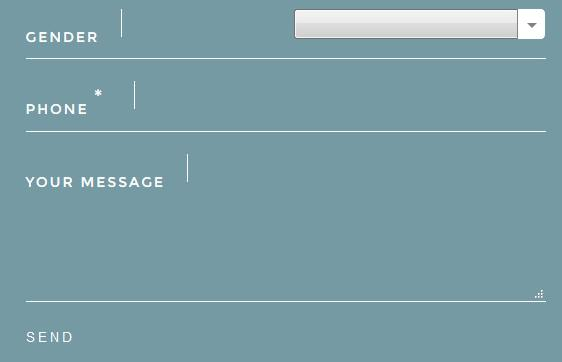field: (20, 150, 547, 303), (293, 8, 549, 41)
field_line: (21, 76, 546, 136)
